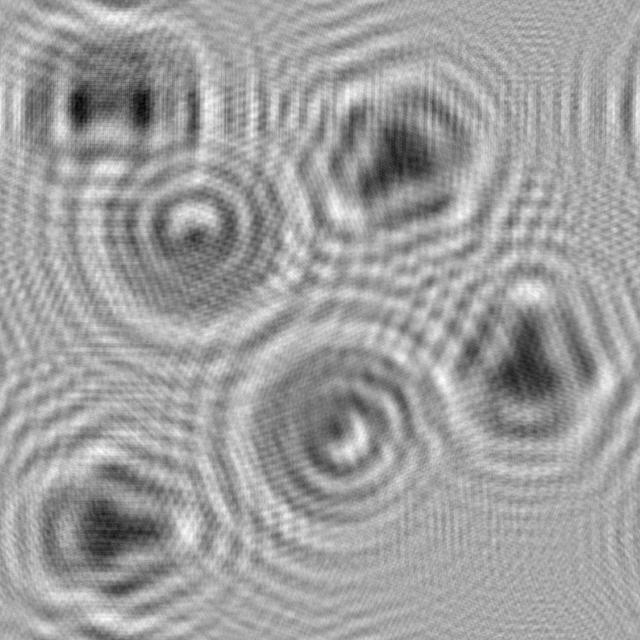A: (244, 21, 529, 289), (407, 224, 640, 505), (0, 407, 261, 640)
C: (41, 104, 336, 368), (200, 291, 457, 575)
E: (0, 0, 230, 209)
